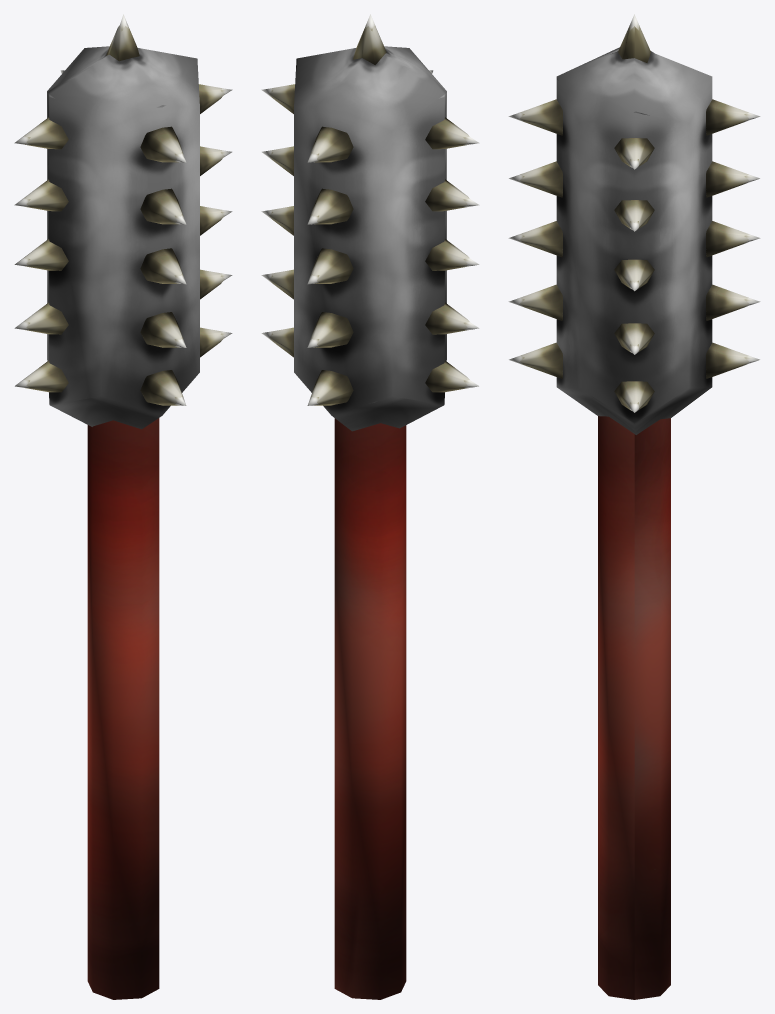
The model's file is MaceV2.fbx.
3 renders of one model, left to right at view 1: azimuth 30°, elevation 25°; view 2: azimuth 150°, elevation 25°; view 3: azimuth 270°, elevation 25°, orthographic.
Visible parts, largest first — view 1: MaceHead; view 2: MaceHead; view 3: MaceHead.
Part boxes in pixels (x1=…): MaceHead: x1=14, y1=14, x2=232, y2=999; MaceHead: x1=261, y1=14, x2=479, y2=999; MaceHead: x1=508, y1=14, x2=760, y2=999.
Size of the model in its own units: 381 by 1619 by 381.
